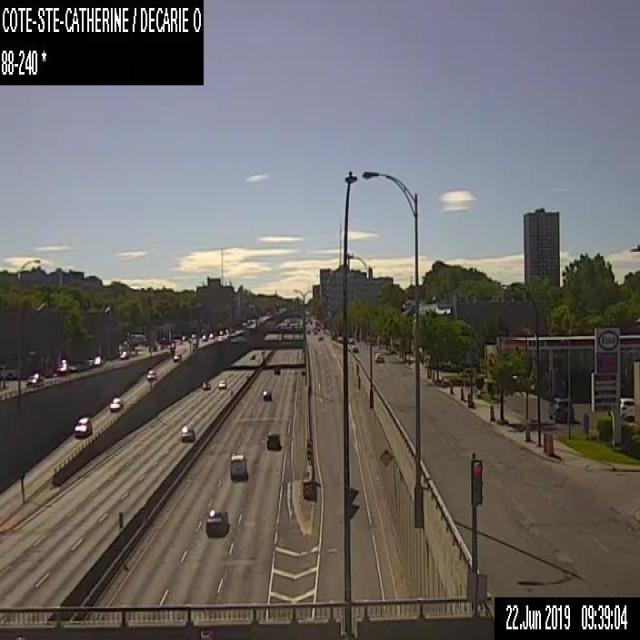construction: (547, 433, 553, 454), (489, 404, 494, 419), (459, 386, 464, 398), (466, 392, 469, 405), (449, 381, 452, 392)
vehicle: (205, 509, 228, 537), (548, 397, 574, 421), (230, 453, 246, 481), (179, 421, 196, 444), (74, 417, 92, 436), (619, 397, 634, 419), (266, 432, 281, 449), (26, 373, 41, 387), (108, 397, 122, 411), (56, 358, 68, 374), (146, 369, 156, 380), (262, 389, 271, 401), (201, 379, 210, 390), (94, 355, 102, 366), (119, 350, 128, 359), (374, 352, 383, 361), (173, 351, 181, 361), (273, 365, 280, 374), (218, 379, 225, 388), (249, 353, 255, 359), (352, 345, 357, 352)
